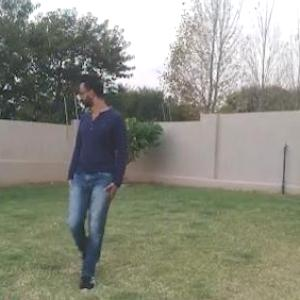follow: (66, 72, 118, 279)
